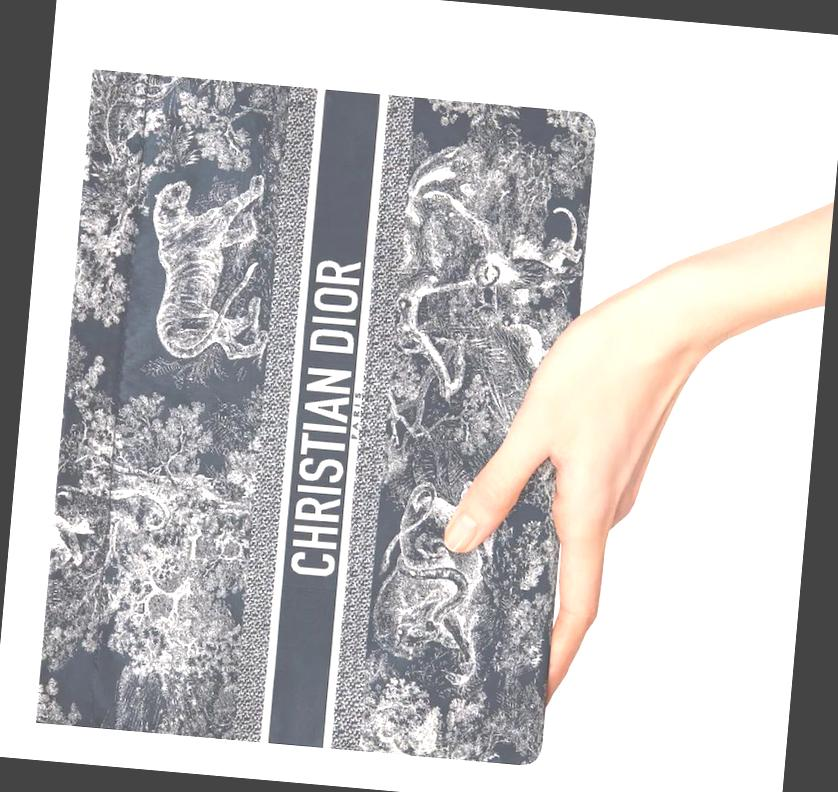DIOR: (270, 250, 376, 584)
